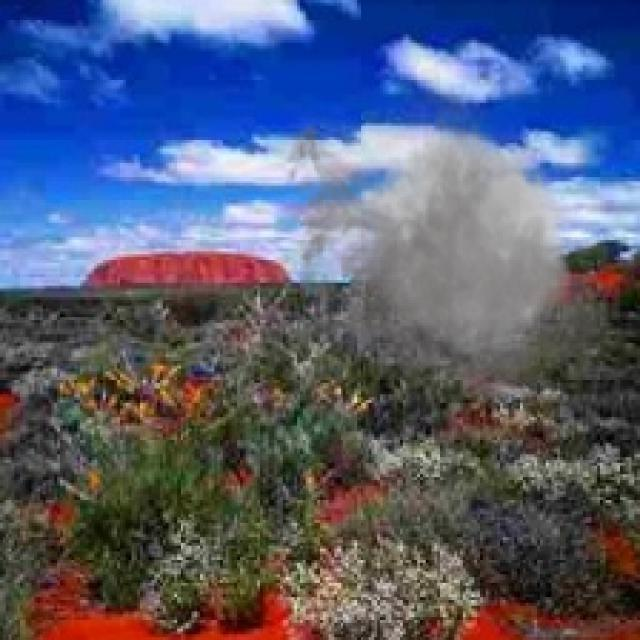Smoke: (274, 66, 623, 423)
